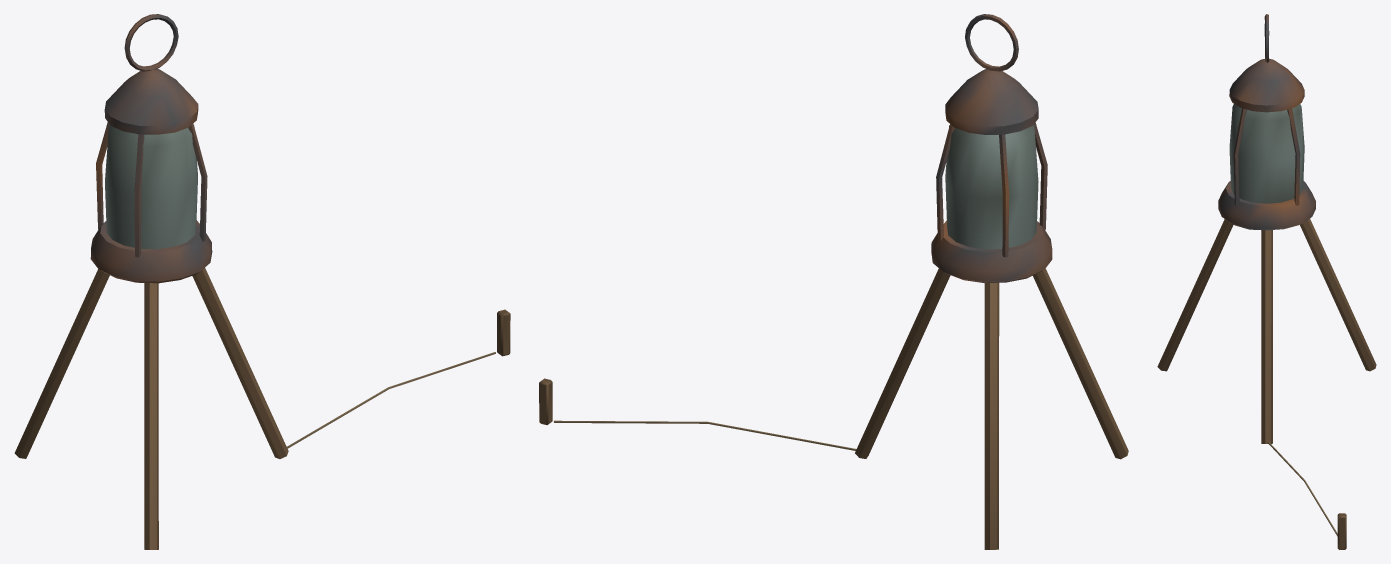
The model's file is lantern-trap.glb.
3 renders of one model, left to right at view 1: azimuth 30°, elevation 25°; view 2: azimuth 150°, elevation 25°; view 3: azimuth 270°, elevation 25°, orthographic. The views are drawn at different scales.
Visible parts, largest first — view 1: lantern-trap; view 2: lantern-trap; view 3: lantern-trap.
Boxes of the visible parts, x1,y1,x2,y2 form: lantern-trap: [14, 14, 510, 549]; lantern-trap: [539, 14, 1128, 549]; lantern-trap: [1157, 14, 1376, 549].
Bounding box in the file's own units: 0.5837 × 0.5561 × 0.2915.
